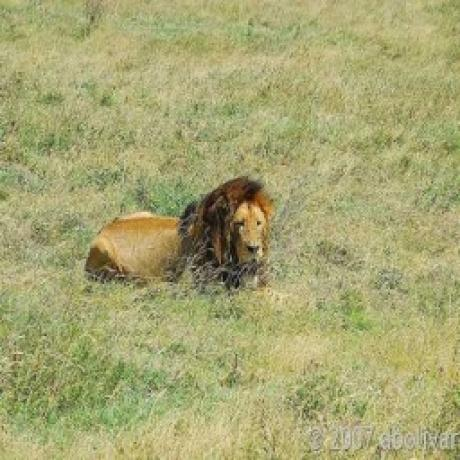Lion: (85, 173, 274, 289)
